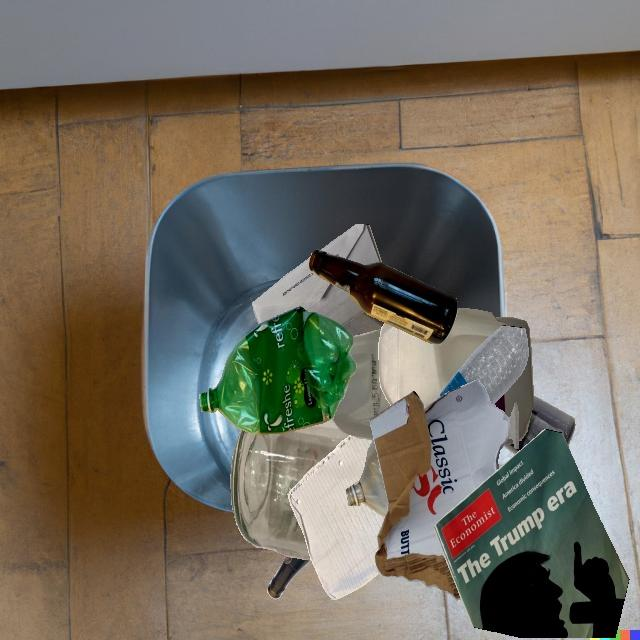cardboard: (369, 380, 511, 600)
glass: (230, 419, 350, 560), (308, 249, 458, 344), (267, 555, 311, 599), (508, 402, 519, 449)
paper: (434, 429, 629, 638), (288, 435, 385, 600), (252, 257, 364, 326), (320, 224, 382, 265)
plastic: (199, 306, 356, 434), (374, 324, 514, 443), (378, 308, 508, 407), (433, 325, 528, 405), (332, 329, 391, 440), (503, 395, 575, 455), (346, 439, 388, 517)
